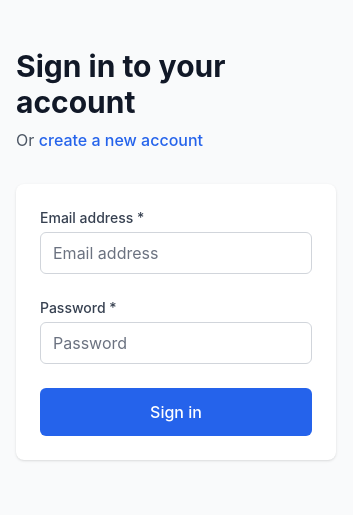
Test case: Login Page › should show error message on login failure
Type "test@example.com" into the field labelled "Email address *" at coordinates (176, 253), box [40, 232, 312, 274]
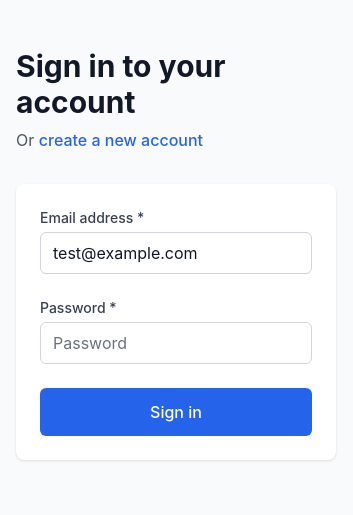
Type "wrongpassword" into the password field labelled "Password *" at coordinates (176, 343), box [40, 322, 312, 364]
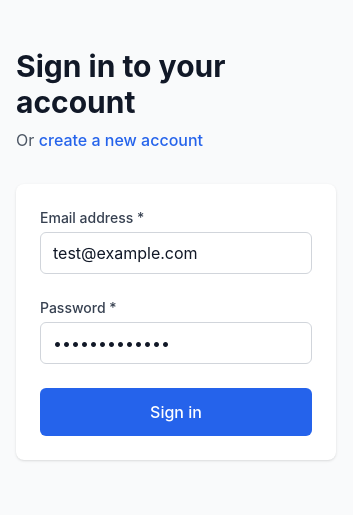
Click the button "Sign in" at coordinates (176, 412), box [40, 388, 312, 436]
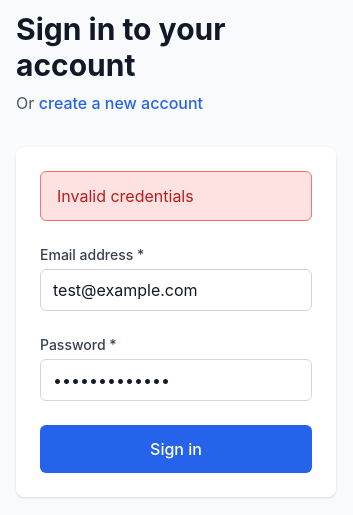
Expected: the text "Invalid credentials" is shown, [40, 171, 312, 221]
